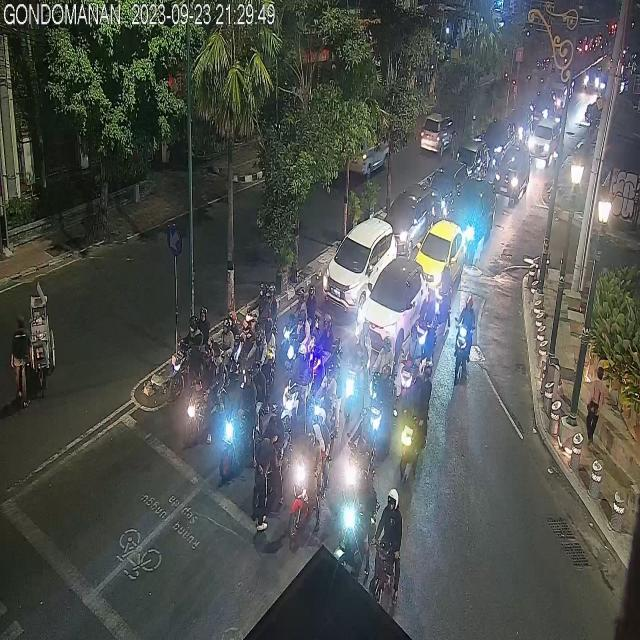car: (323, 216, 398, 314), (356, 257, 426, 350), (415, 221, 468, 289), (451, 178, 495, 257), (382, 188, 434, 246), (492, 140, 532, 206), (428, 156, 468, 214), (452, 130, 490, 177), (421, 114, 457, 150), (528, 114, 556, 158)
motorcycle: (216, 368, 261, 486), (371, 488, 409, 610), (184, 339, 223, 451), (288, 425, 324, 542), (397, 358, 432, 469), (172, 306, 209, 394), (281, 284, 317, 365), (344, 318, 371, 414), (452, 296, 476, 376)
